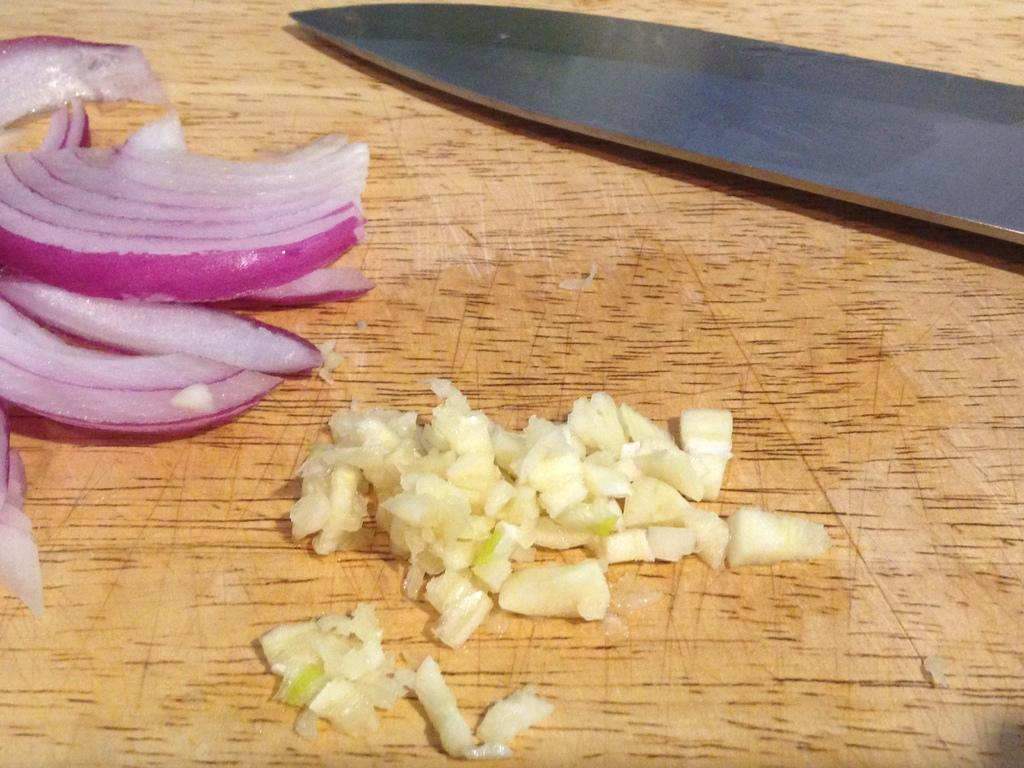Knife: (288, 4, 1023, 246)
